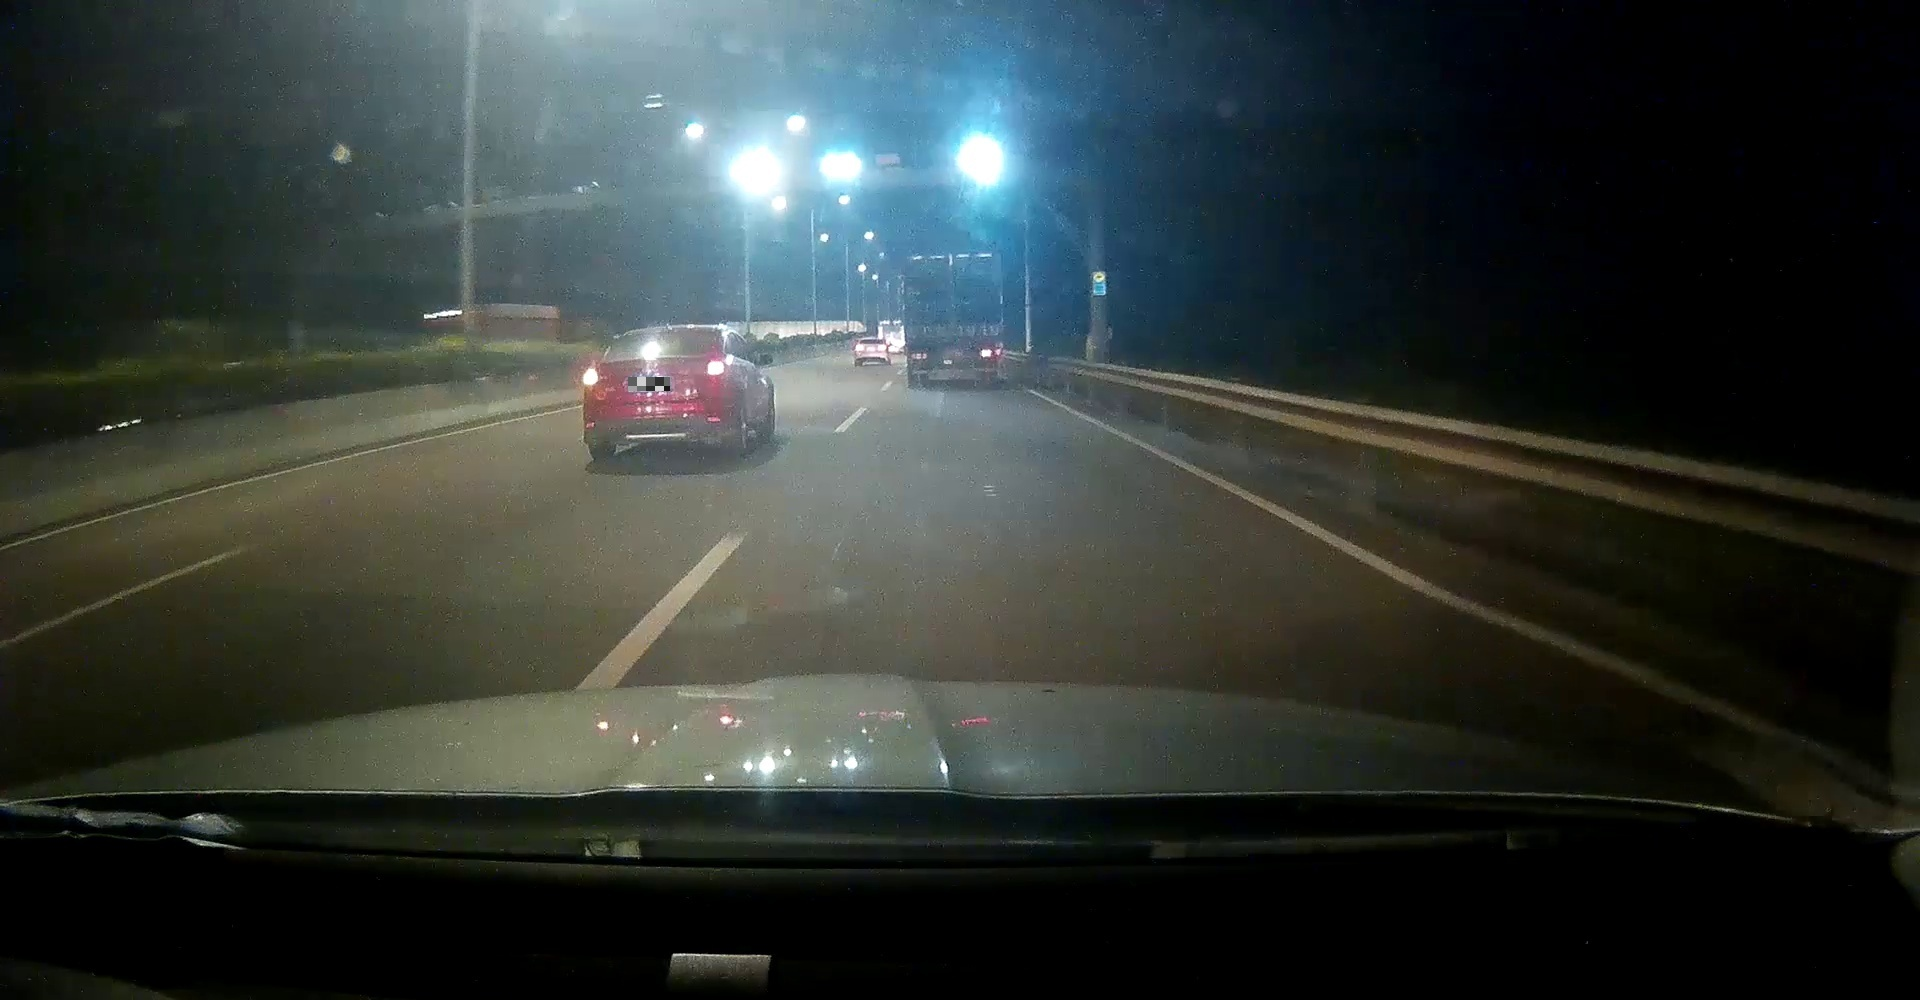L_light: (582, 368, 599, 386), (909, 352, 927, 360)
R_light: (707, 360, 726, 376), (978, 348, 1003, 359)
T_light: (653, 329, 678, 336), (945, 255, 957, 260)
night-no: (580, 324, 731, 459)
night-right: (900, 251, 1004, 390)
plate_1: (629, 377, 670, 391)
